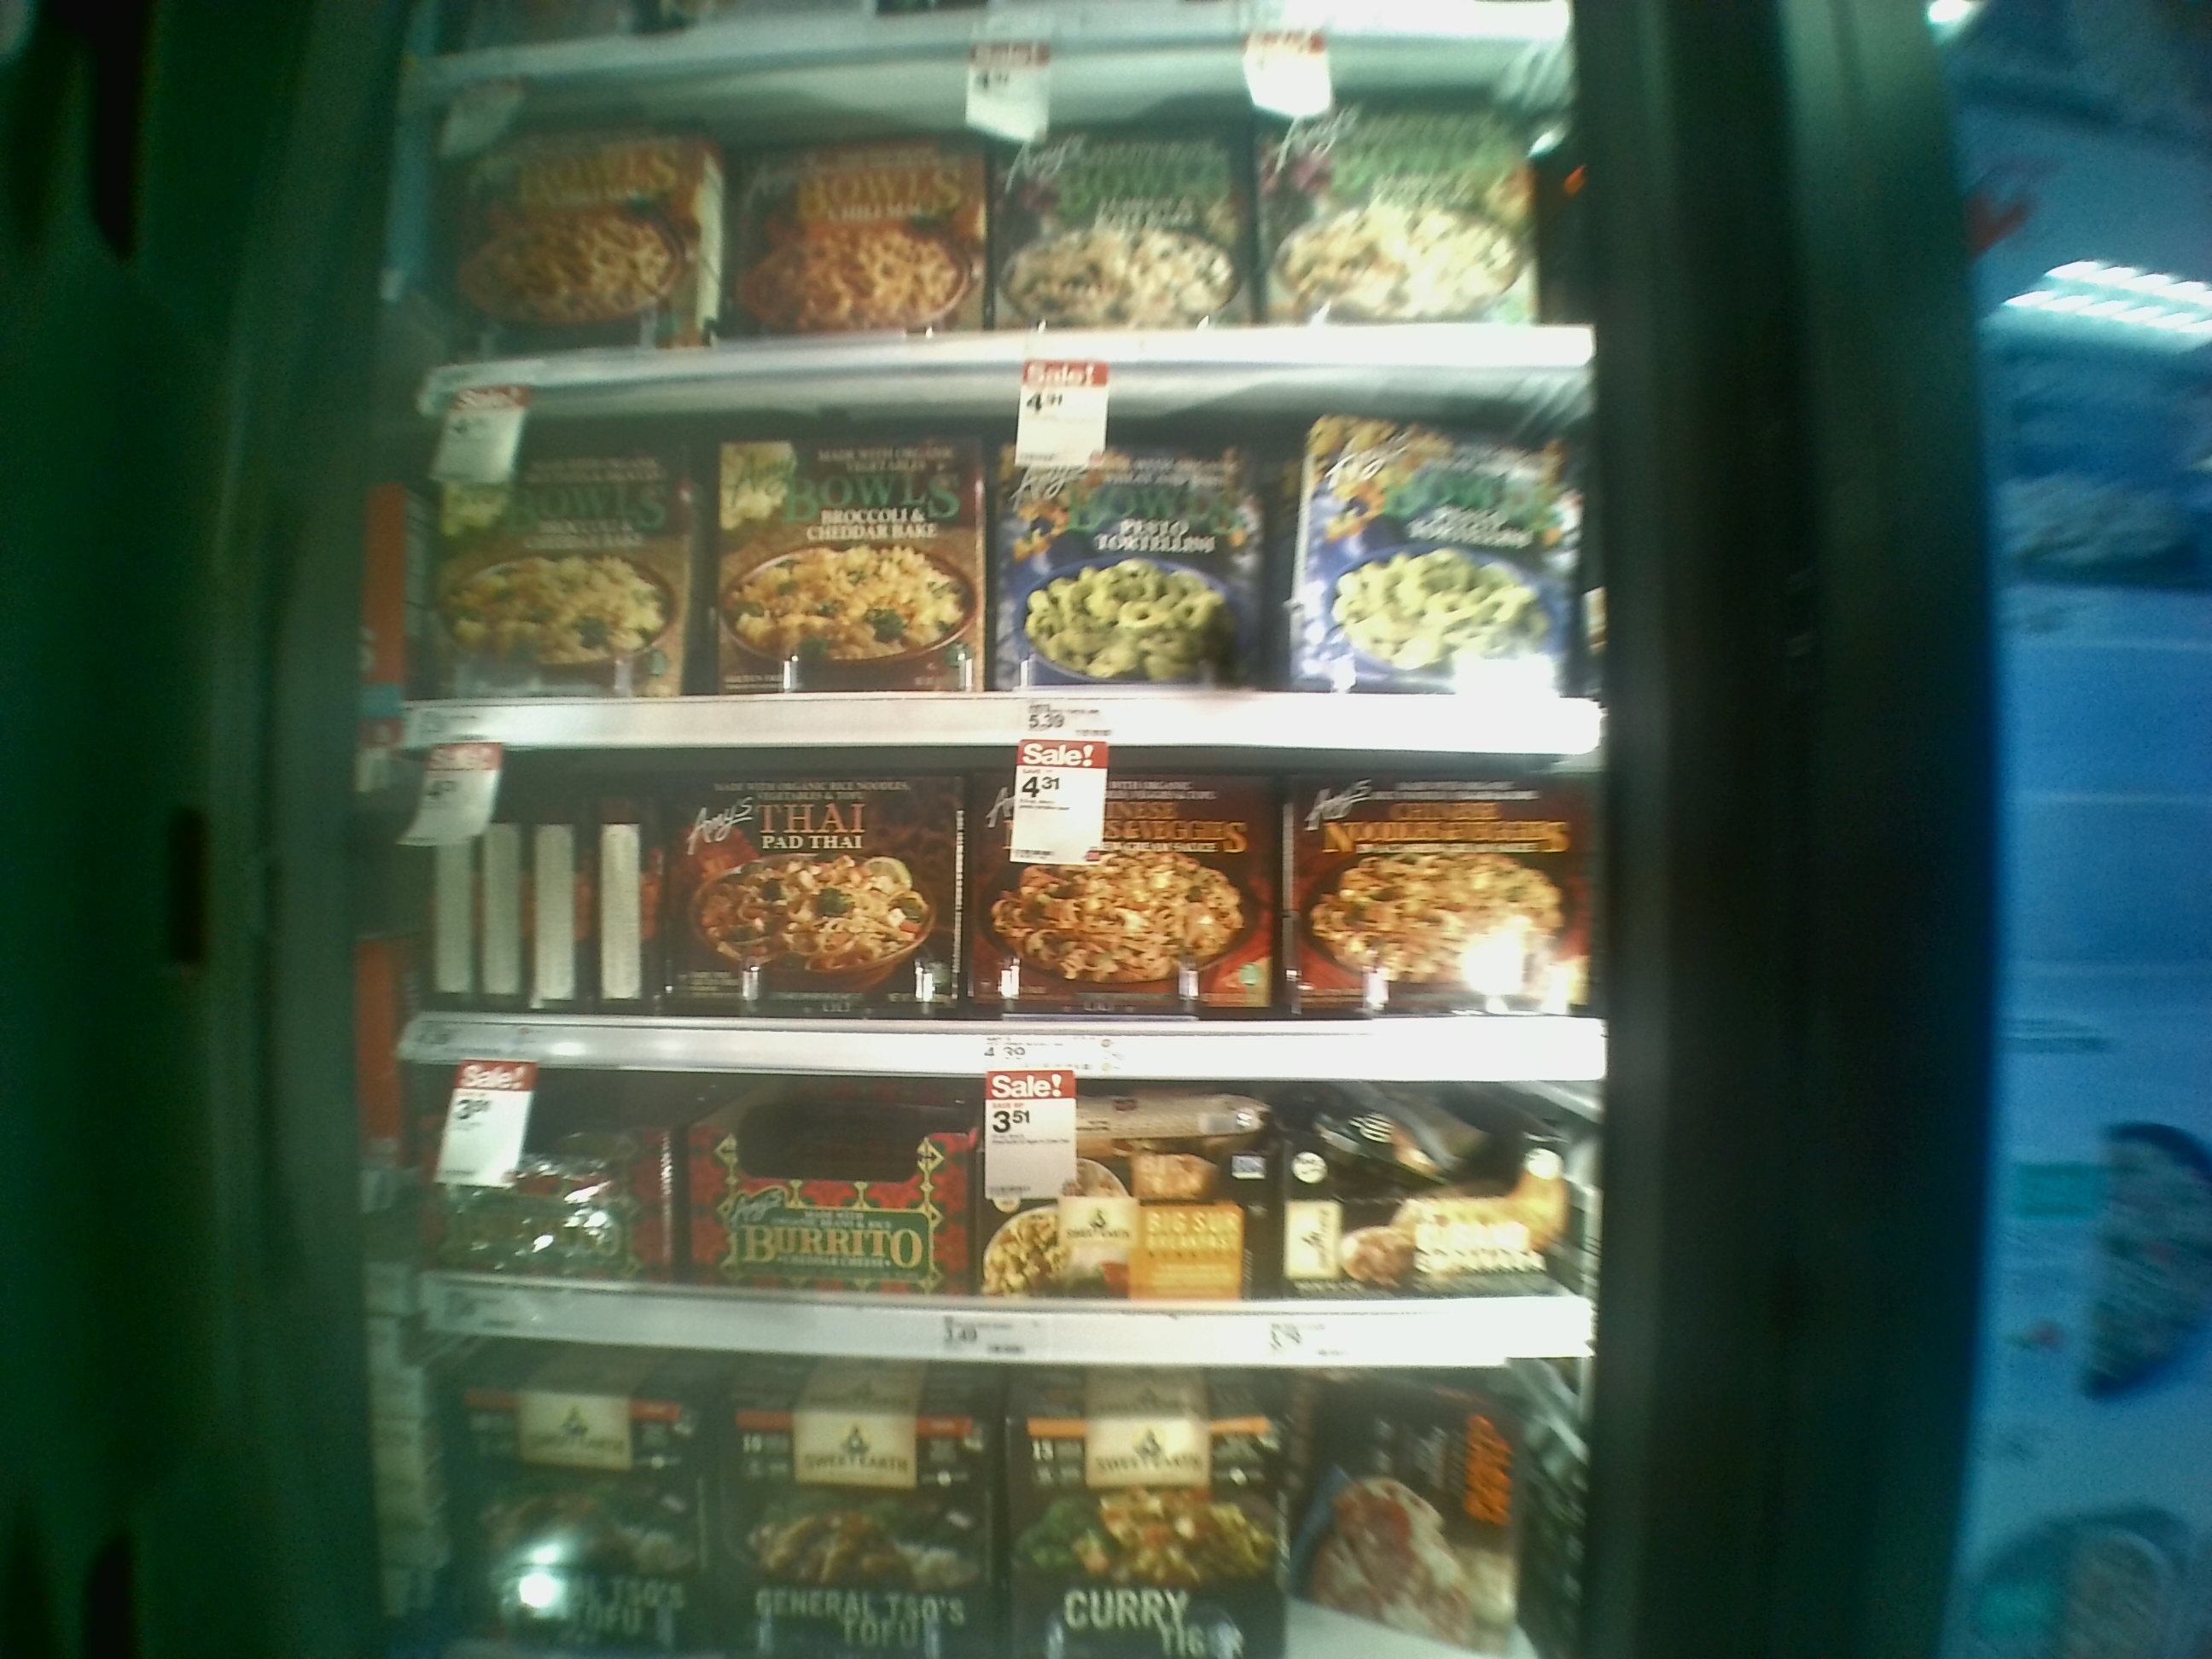frozen-food-shelf: (387, 413, 1615, 756), (381, 753, 1611, 1086), (406, 84, 1599, 404), (376, 1091, 1620, 1375)
